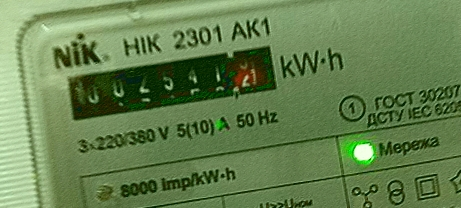0: (81, 79, 102, 107), (108, 72, 126, 101)
1: (207, 56, 224, 85)
2: (132, 68, 151, 95)
4: (183, 61, 199, 85)
5: (157, 64, 178, 94)
6: (236, 69, 253, 89)
screen: (52, 30, 293, 133)
